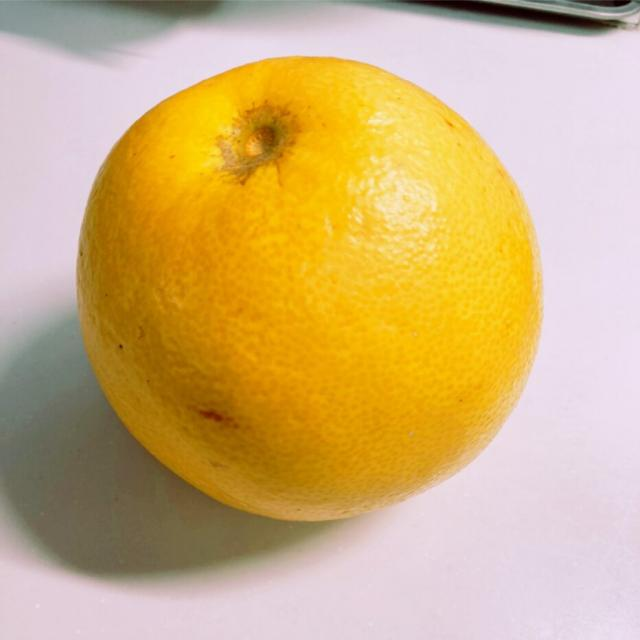Orange: (83, 54, 547, 524)
